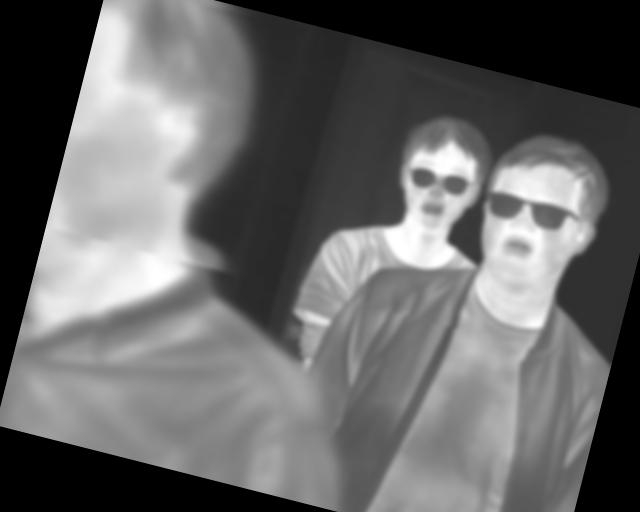face: (464, 120, 620, 307), (383, 104, 499, 242)
